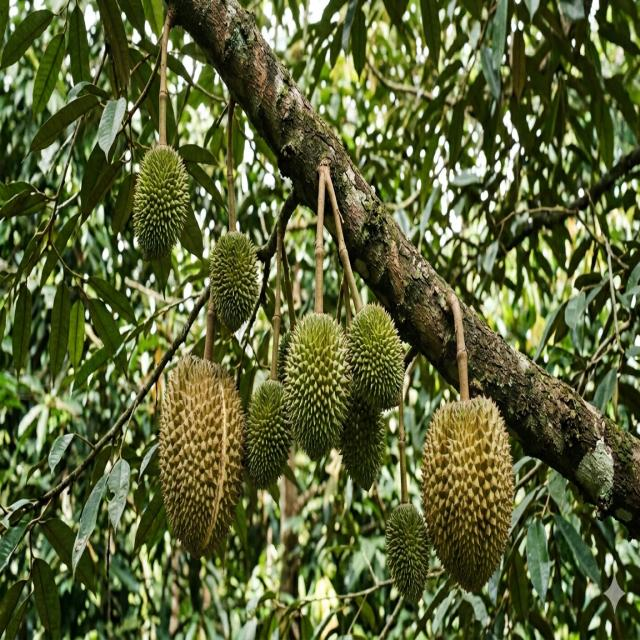immature: (281, 309, 349, 460), (131, 133, 191, 265), (344, 302, 404, 415), (208, 226, 262, 334), (244, 379, 295, 492), (382, 493, 433, 605), (338, 384, 388, 487), (275, 326, 293, 375)
mature: (421, 392, 516, 592), (156, 351, 246, 558)
